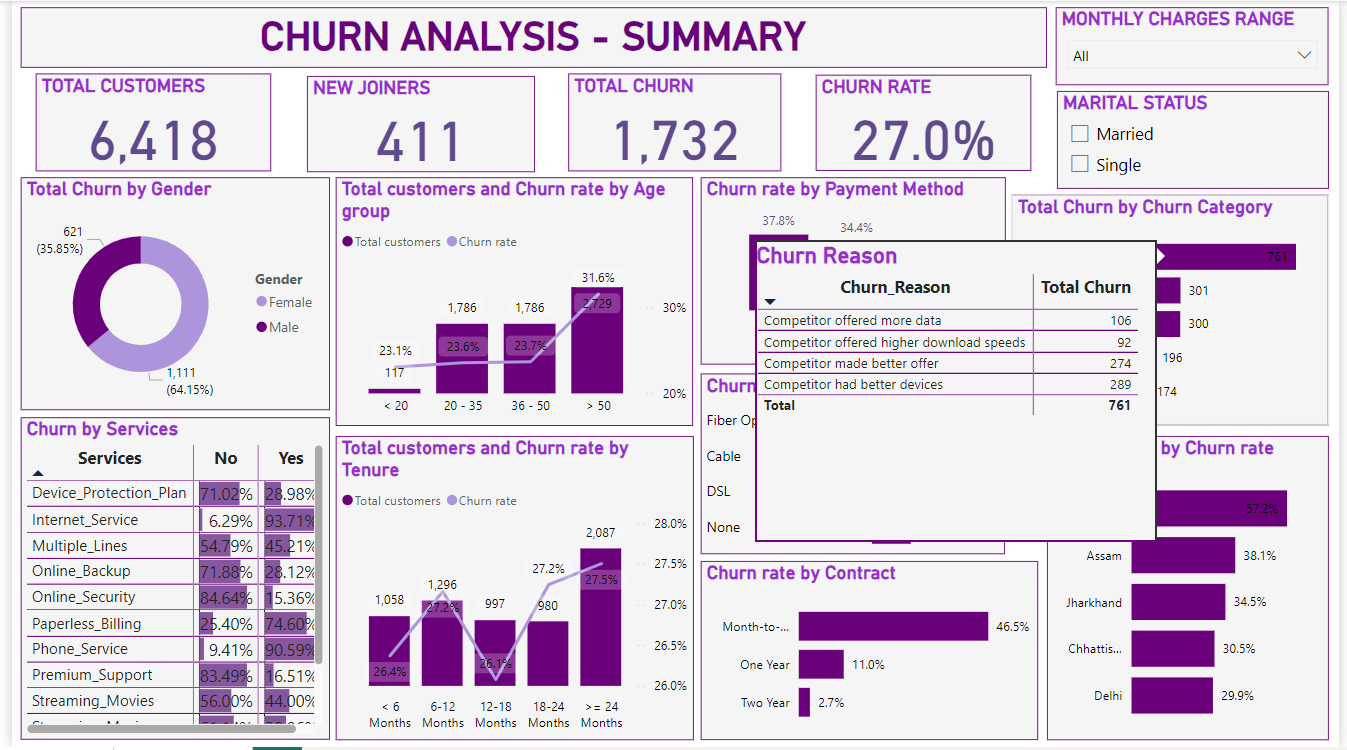

What the dashboard file says about the page in this screenshot:
{"tool":"powerbi","page":{"name":"Churn analysis","canvas":[1280,720],"ordinal":0},"visuals":[{"type":"card","title":"TOTAL CUSTOMERS","fields":{"Values":["Table_measures.Total customers"]},"box":[22.9,70,227.1,94.3],"z":0},{"type":"card","title":"TOTAL CHURN","fields":{"Values":["Table_measures.Total Churn"]},"box":[537.1,70,205.7,94.3],"z":1000},{"type":"card","title":"NEW JOINERS","fields":{"Values":["Table_measures.New Joiners"]},"box":[284.3,72.9,220,92.9],"z":2000},{"type":"card","title":"CHURN RATE","fields":{"Values":["Table_measures.Churn rate"]},"box":[775.8,71.7,208.3,92.5],"z":3000},{"type":"donutChart","fields":{"Category":["Churn_details.Gender"],"Y":["Table_measures.Total Churn"]},"box":[8.3,170,298.3,225],"z":4000},{"type":"lineStackedColumnComboChart","title":"Total customers and Churn rate by Age group","fields":{"Category":["age_group.age group"],"Y2":["Table_measures.Churn rate"],"Y":["Table_measures.Total customers"]},"box":[312.5,170,345,240],"z":5000},{"type":"clusteredColumnChart","title":"Churn rate by Payment Method","fields":{"Category":["Churn_details.Payment_Method"],"Y":["Table_measures.Churn rate"]},"box":[664.2,170,294.2,180.8],"z":6000},{"type":"clusteredBarChart","fields":{"Category":["Churn_details.Contract"],"Y":["Table_measures.Churn rate"]},"box":[664.3,540,325.7,172.9],"z":7000},{"type":"lineStackedColumnComboChart","title":"Total customers and Churn rate by Tenure","fields":{"Y":["Table_measures.Total customers"],"Category":["tenure_group.tenure group"],"Y2":["Table_measures.Churn rate"]},"box":[312.1,419.3,345.7,293.6],"z":8000},{"type":"clusteredBarChart","title":"Top 5 States by Churn rate","fields":{"Category":["Churn_details.State"],"Y":["Table_measures.Churn rate"]},"box":[998.6,419.3,272.1,293.6],"z":9000},{"type":"clusteredBarChart","title":"Total Churn by Churn Category","fields":{"Category":["Churn_details.Churn_Category"],"Y":["Table_measures.Total Churn"]},"box":[965,186.7,305.8,222.5],"z":10000},{"type":"funnel","title":"Churn rate by Internet Type","fields":{"Category":["Churn_details.Internet_Type"],"Y":["Table_measures.Churn rate"]},"box":[664.2,360,293.3,174.2],"z":11000},{"type":"pivotTable","title":"Churn by Services","fields":{"Rows":["services.services"],"Columns":["services.status"],"Values":["Sum(services.Churn Status)"]},"box":[8.6,401.4,298.6,311.4],"z":12000},{"type":"slicer","title":"MONTHLY CHARGES RANGE","fields":{"Values":["Churn_details.Monthly Charge Range"]},"box":[1007.5,5.8,263.3,75],"z":13000},{"type":"slicer","title":"MARITAL STATUS","fields":{"Values":["Churn_details.Marital status"]},"box":[1008.3,86.7,262.5,94.2],"z":14000},{"type":"textbox","box":[8.6,5.7,990,58.6],"z":15000}]}

Visuals, with their boxes in screenshot pixels (x1, y1, x2, y2), scaled from the page's 1280x720 canvas onto the 1347x750 screenshot:
"TOTAL CUSTOMERS" card: bbox=(24, 73, 263, 171)
"TOTAL CHURN" card: bbox=(565, 73, 782, 171)
"NEW JOINERS" card: bbox=(299, 76, 531, 173)
"CHURN RATE" card: bbox=(816, 75, 1036, 171)
donutChart - Churn_details.Gender x Table_measures.Total Churn: bbox=(9, 177, 323, 411)
"Total customers and Churn rate by Age group" lineStackedColumnComboChart: bbox=(329, 177, 692, 427)
"Churn rate by Payment Method" clusteredColumnChart: bbox=(699, 177, 1009, 365)
clusteredBarChart - Churn_details.Contract x Table_measures.Churn rate: bbox=(699, 562, 1042, 743)
"Total customers and Churn rate by Tenure" lineStackedColumnComboChart: bbox=(328, 437, 692, 743)
"Top 5 States by Churn rate" clusteredBarChart: bbox=(1051, 437, 1337, 743)
"Total Churn by Churn Category" clusteredBarChart: bbox=(1016, 194, 1337, 426)
"Churn rate by Internet Type" funnel: bbox=(699, 375, 1008, 556)
"Churn by Services" pivotTable: bbox=(9, 418, 323, 742)
"MONTHLY CHARGES RANGE" slicer: bbox=(1060, 6, 1337, 84)
"MARITAL STATUS" slicer: bbox=(1061, 90, 1337, 188)
textbox: bbox=(9, 6, 1051, 67)
